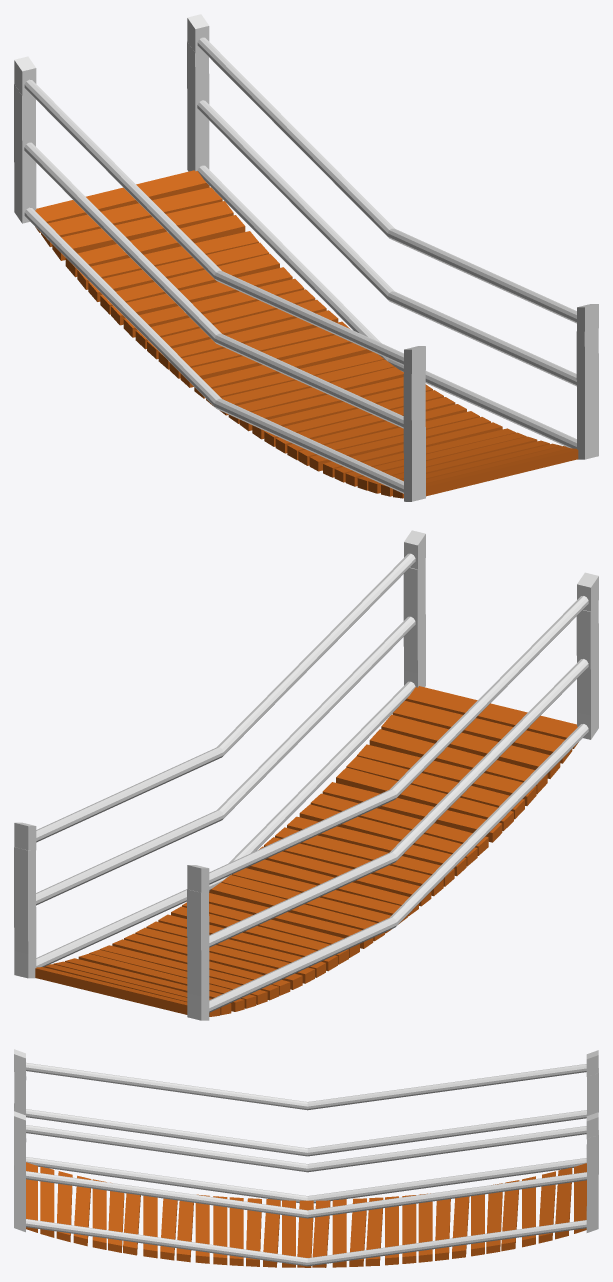
Rendered from tree_bridge_04.fbx.
3 renders of one model, top to bottom at view 1: azimuth 30°, elevation 25°; view 2: azimuth 150°, elevation 25°; view 3: azimuth 270°, elevation 25°, orthographic. The views are drawn at different scales.
Parts seen in each view (by area): view 1: Cylinder.000; view 2: Cylinder.000; view 3: Cylinder.000.
Part boxes in pixels (x1,y1,x2,y2): Cylinder.000: (14, 14, 598, 501); Cylinder.000: (14, 530, 598, 1020); Cylinder.000: (14, 1049, 598, 1267).
Size of the model in its own units: 178 by 191 by 654.
